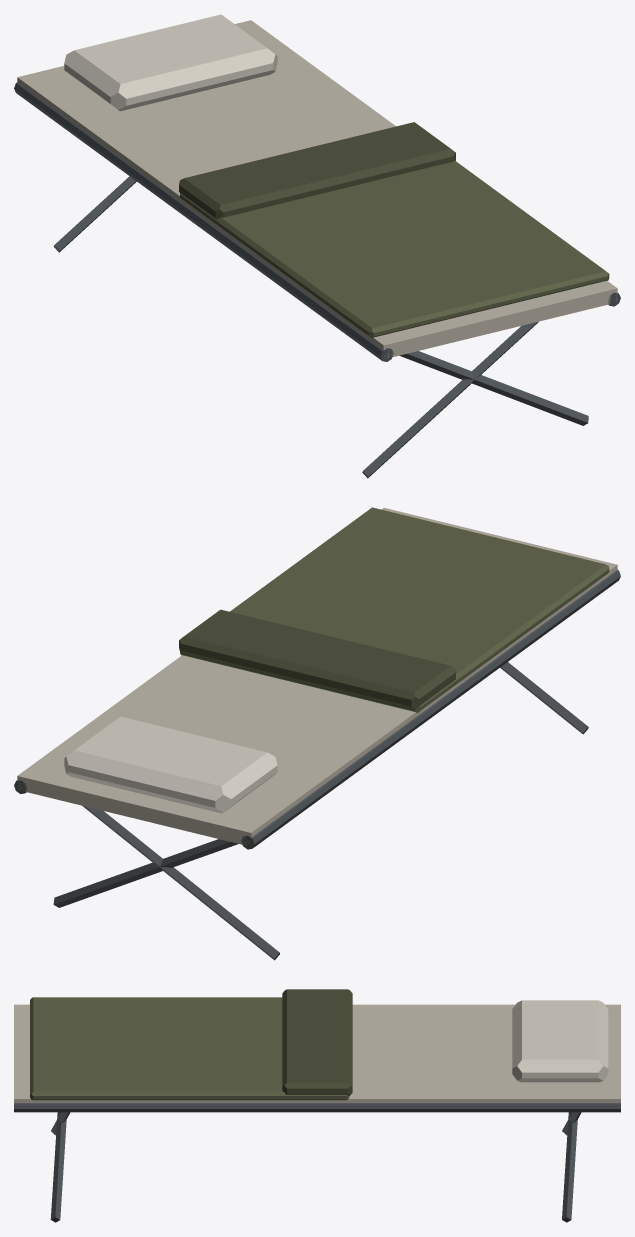
File: lit_de_camp.glb
The picture shows the model from 3 angles, top to bottom: view 1: azimuth 30°, elevation 25°; view 2: azimuth 150°, elevation 25°; view 3: azimuth 270°, elevation 25°; orthographic projection. The views are drawn at different scales.
Parts seen in each view (by area): view 1: blanket, bed, pillow, fold, rails, legs, legs_x; view 2: blanket, bed, fold, pillow, rails, legs, legs_x; view 3: blanket, bed, pillow, fold, rails, legs_x.
Part boxes in pixels (x1,y1,x2,y2): blanket: (180, 160, 609, 338); bed: (17, 20, 617, 358); pillow: (64, 14, 277, 111); fold: (179, 122, 455, 219); rails: (14, 82, 620, 361); legs: (53, 176, 538, 478); legs_x: (399, 351, 588, 425); blanket: (180, 507, 609, 712); bed: (17, 508, 617, 845); fold: (179, 609, 455, 709); pillow: (64, 716, 277, 813); rails: (14, 569, 620, 849); legs: (82, 662, 588, 960); legs_x: (53, 839, 237, 907); blanket: (30, 997, 349, 1100); bed: (14, 1004, 620, 1102); pillow: (512, 1000, 608, 1082); fold: (282, 989, 352, 1095); rails: (14, 1103, 620, 1112); legs_x: (50, 1112, 577, 1222).
Bounding box in the file's own units: 0.72 × 0.5149 × 1.9.
5 materials, 5 textured.
